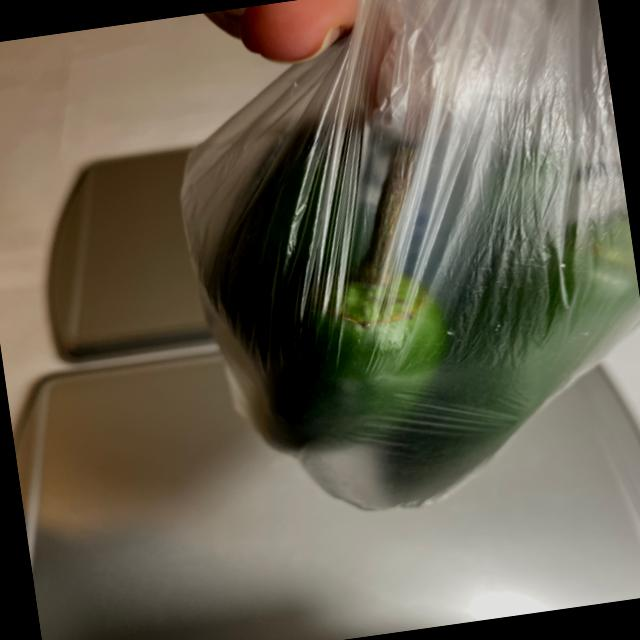chilli: (173, 46, 640, 551)
